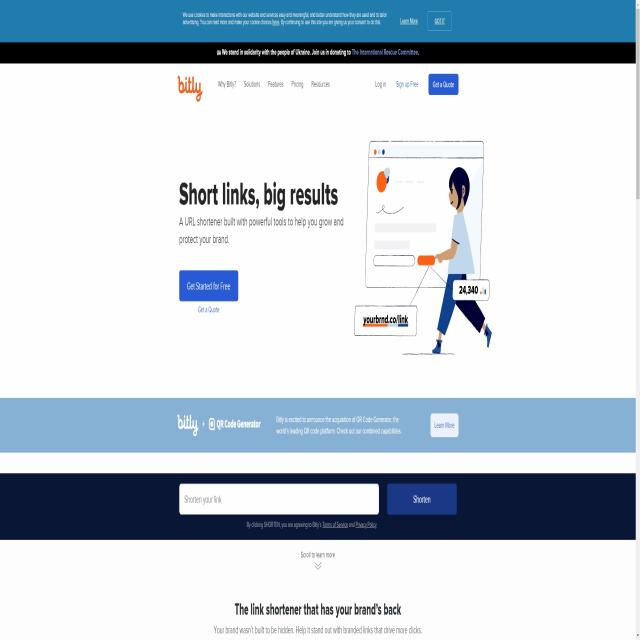menu-bar: (372, 72, 460, 97)
search: (178, 482, 460, 518)
tab-bar: (173, 68, 334, 104)
